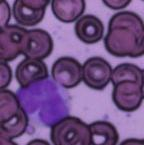M: (16, 77, 72, 127)
